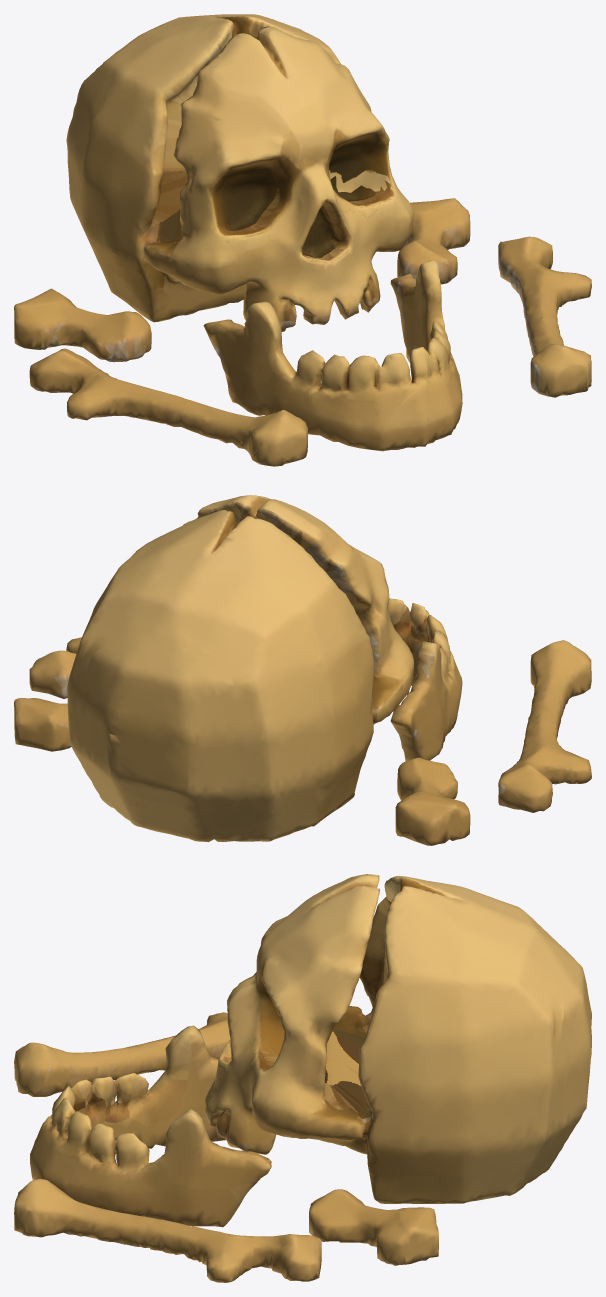
Rendered from skull.glb.
The picture shows the model from 3 angles, top to bottom: view 1: azimuth 30°, elevation 25°; view 2: azimuth 150°, elevation 25°; view 3: azimuth 270°, elevation 25°; orthographic projection.
Parts seen in each view (by area): view 1: world; view 2: world; view 3: world.
Part boxes in pixels (<box>): world: <box>14,14,591,466</box>; world: <box>14,495,591,845</box>; world: <box>14,874,591,1282</box>.
Bounding box in the file's own units: 1.74 × 0.9392 × 1.65.
1 material, 1 textured.
